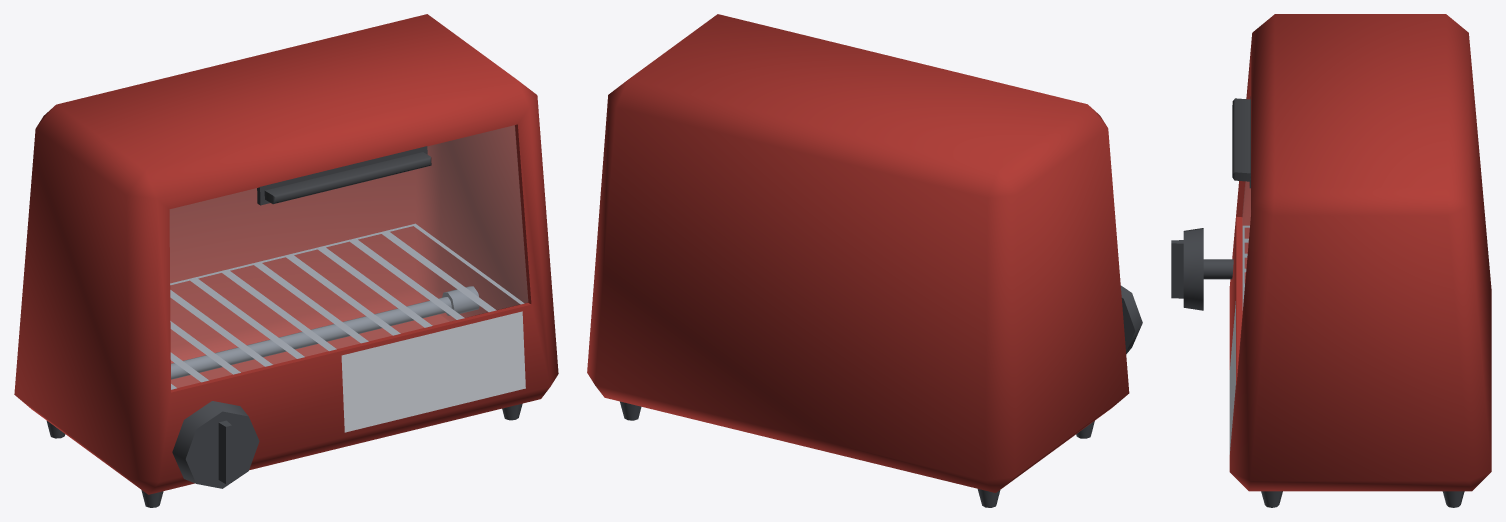
Rendered from appliance_toaster_oven.obj.
The picture shows the model from 3 angles, left to right: view 1: azimuth 30°, elevation 25°; view 2: azimuth 150°, elevation 25°; view 3: azimuth 270°, elevation 25°; orthographic projection. The views are drawn at different scales.
Visible parts, largest first — view 1: appliance_toaster_oven_Cube.265, appliance_toaster_oven_door_Cube.266, appliance_toaster_oven_knob_Cube.267; view 2: appliance_toaster_oven_Cube.265, appliance_toaster_oven_knob_Cube.267; view 3: appliance_toaster_oven_Cube.265, appliance_toaster_oven_knob_Cube.267, appliance_toaster_oven_door_Cube.266.
Part boxes in pixels (x1=…): appliance_toaster_oven_Cube.265: x1=14, y1=14, x2=558, y2=507; appliance_toaster_oven_door_Cube.266: x1=170, y1=125, x2=527, y2=388; appliance_toaster_oven_knob_Cube.267: x1=172, y1=401, x2=259, y2=488; appliance_toaster_oven_Cube.265: x1=587, y1=14, x2=1129, y2=507; appliance_toaster_oven_knob_Cube.267: x1=1120, y1=285, x2=1142, y2=353; appliance_toaster_oven_Cube.265: x1=1229, y1=14, x2=1491, y2=507; appliance_toaster_oven_knob_Cube.267: x1=1171, y1=228, x2=1233, y2=310; appliance_toaster_oven_door_Cube.266: x1=1232, y1=96, x2=1250, y2=309.
Bounding box in the file's own units: 9.19 × 6.85 × 6.2.
Materials: 2 (2 with a texture image).
